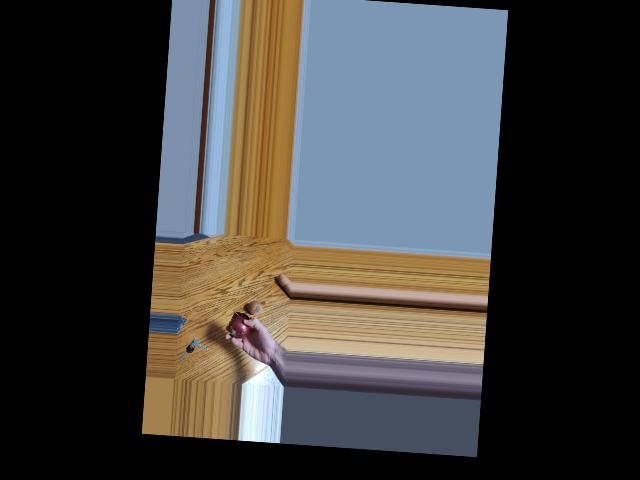onion: (246, 298, 263, 322)
